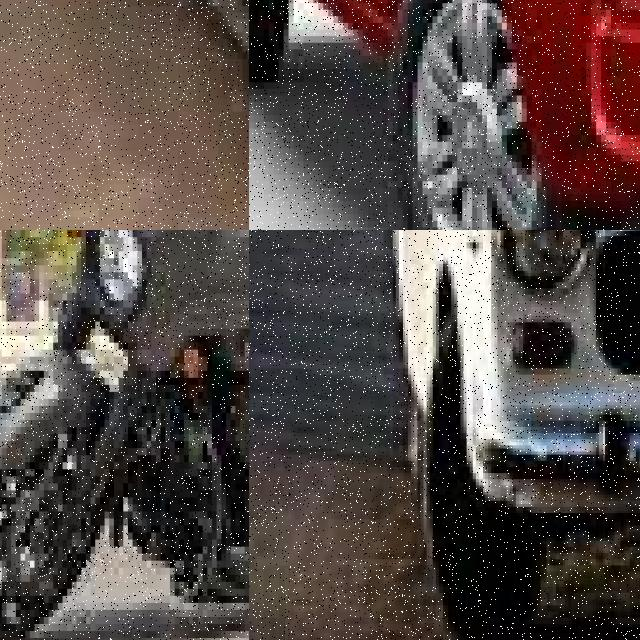bike: (0, 230, 249, 631)
car: (380, 230, 640, 640), (249, 0, 640, 230), (0, 0, 249, 144)
